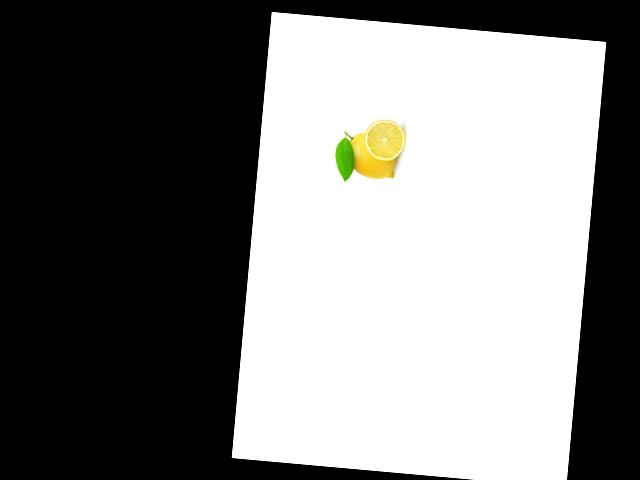lemon: (338, 127, 403, 186)
